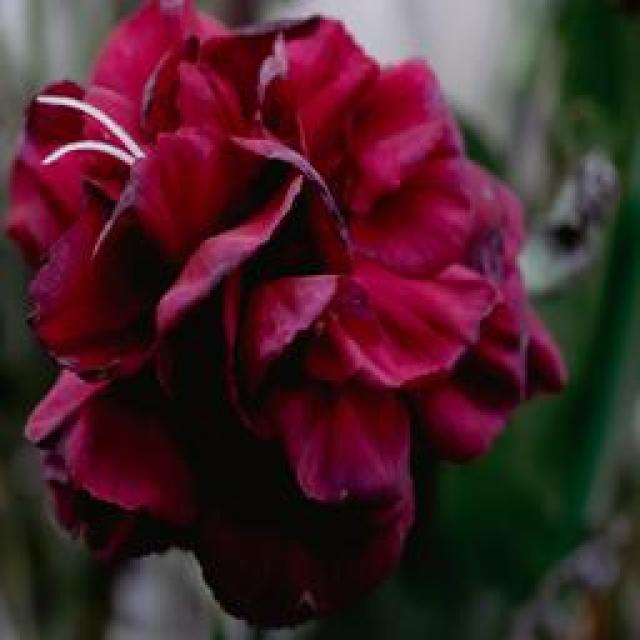carnation: (15, 4, 535, 600)
